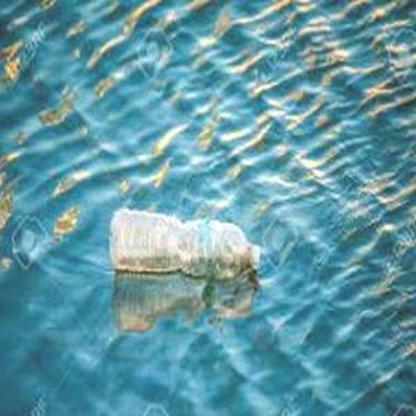plastic bottle: (109, 208, 262, 274)
